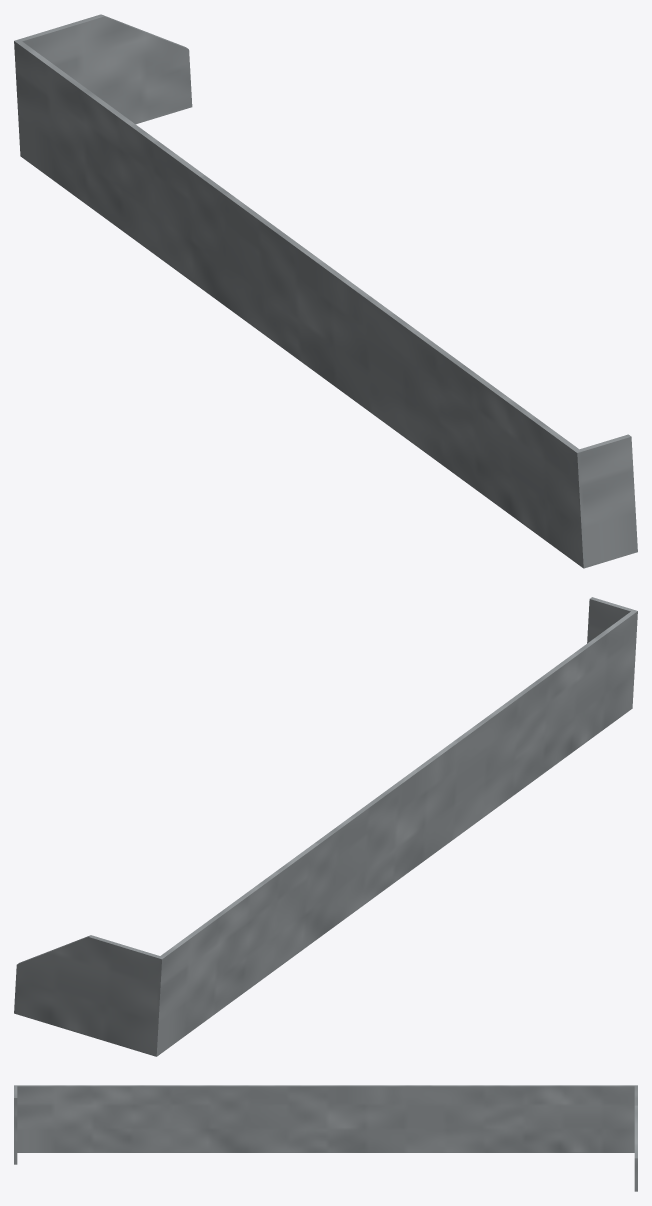
File: original-3-collision.obj
The picture shows the model from 3 angles, top to bottom: view 1: azimuth 30°, elevation 25°; view 2: azimuth 150°, elevation 25°; view 3: azimuth 270°, elevation 25°; orthographic projection. The views are drawn at different scales.
Parts seen in each view (by area): view 1: group_2/ID28#ID28; view 2: group_2/ID28#ID28; view 3: group_2/ID28#ID28.
Part boxes in pixels (x1,y1,x2,y2): group_2/ID28#ID28: (14,14,637,568); group_2/ID28#ID28: (14,597,637,1056); group_2/ID28#ID28: (14,1085,637,1191).
Bounding box in the file's own units: 0.2042 × 0.1362 × 1.14.
